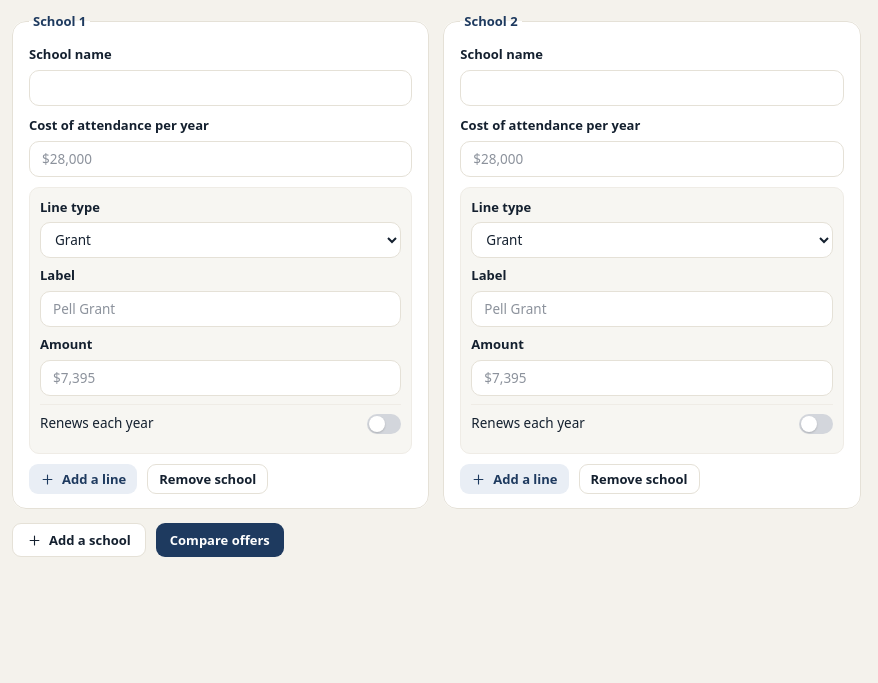
Scenario: OfferTool › shows validation errors and sends nothing
This screenshot has width=878, height=683.
Click the button "Compare offers".
click(220, 540)  # box [156,523,284,557]
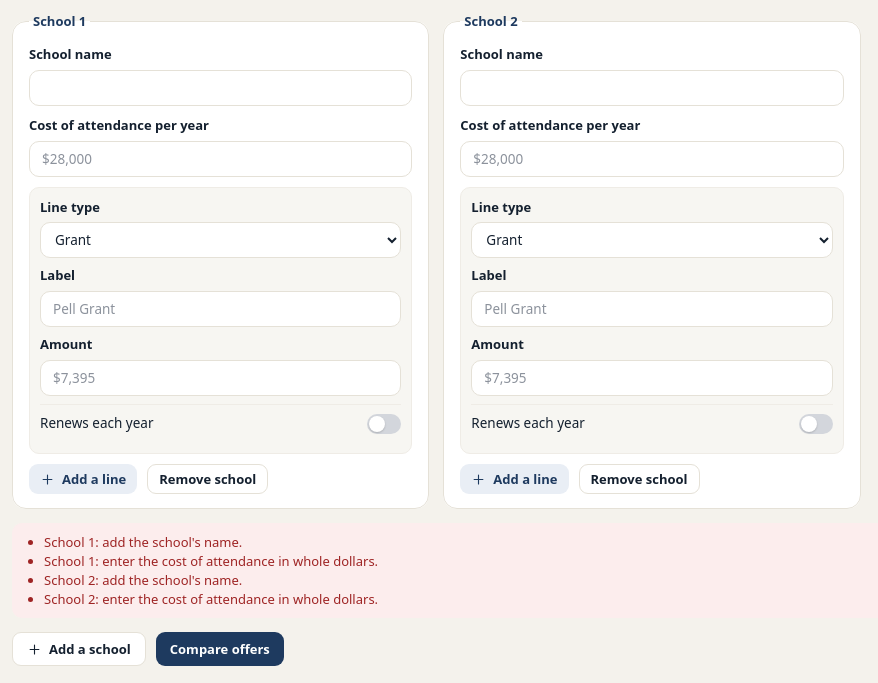
Expected: the message shows "School 1: add the school's name.", [44,533,242,551]
Expected: the message shows "School 2: enter the cost of attendance in whole dollars.", [44,590,378,608]
